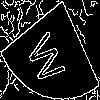W: (25, 25, 72, 89)
